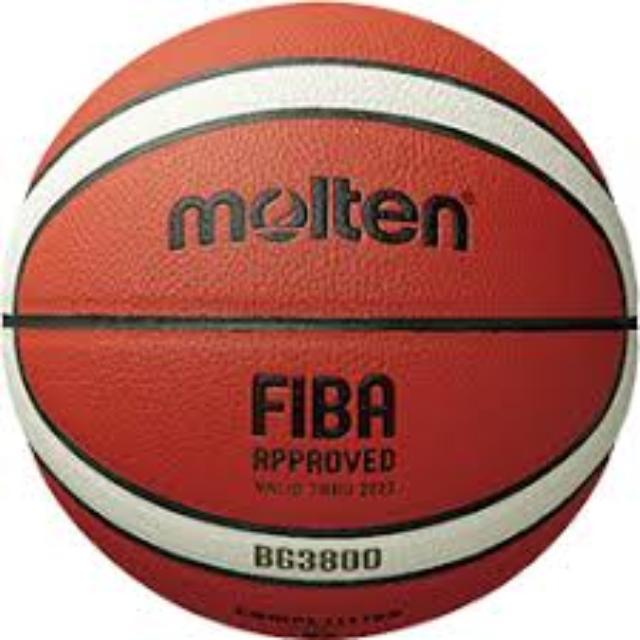basketball: (5, 11, 631, 633)
